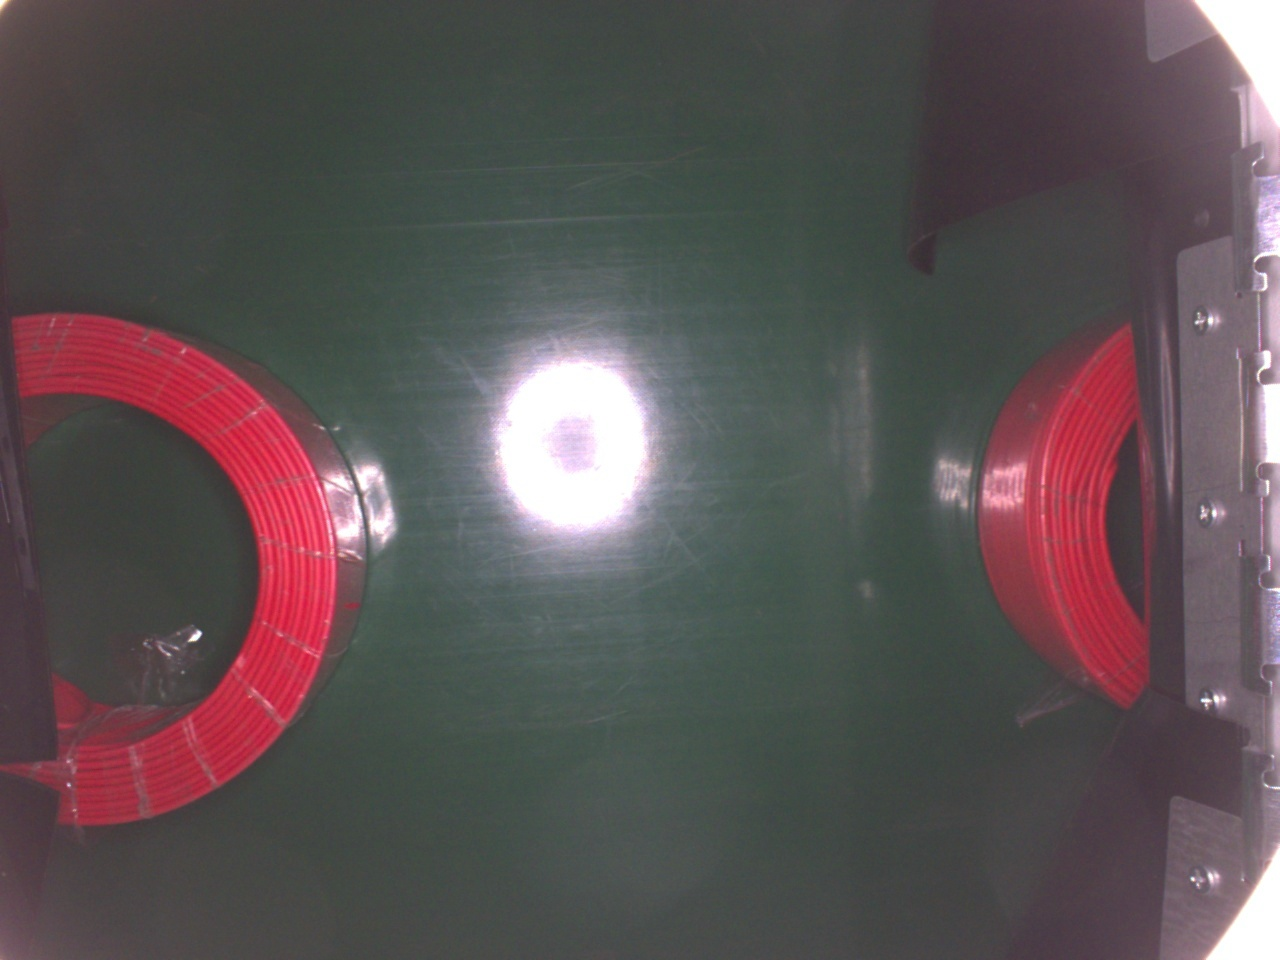red: (8, 305, 369, 831), (981, 314, 1157, 715)
